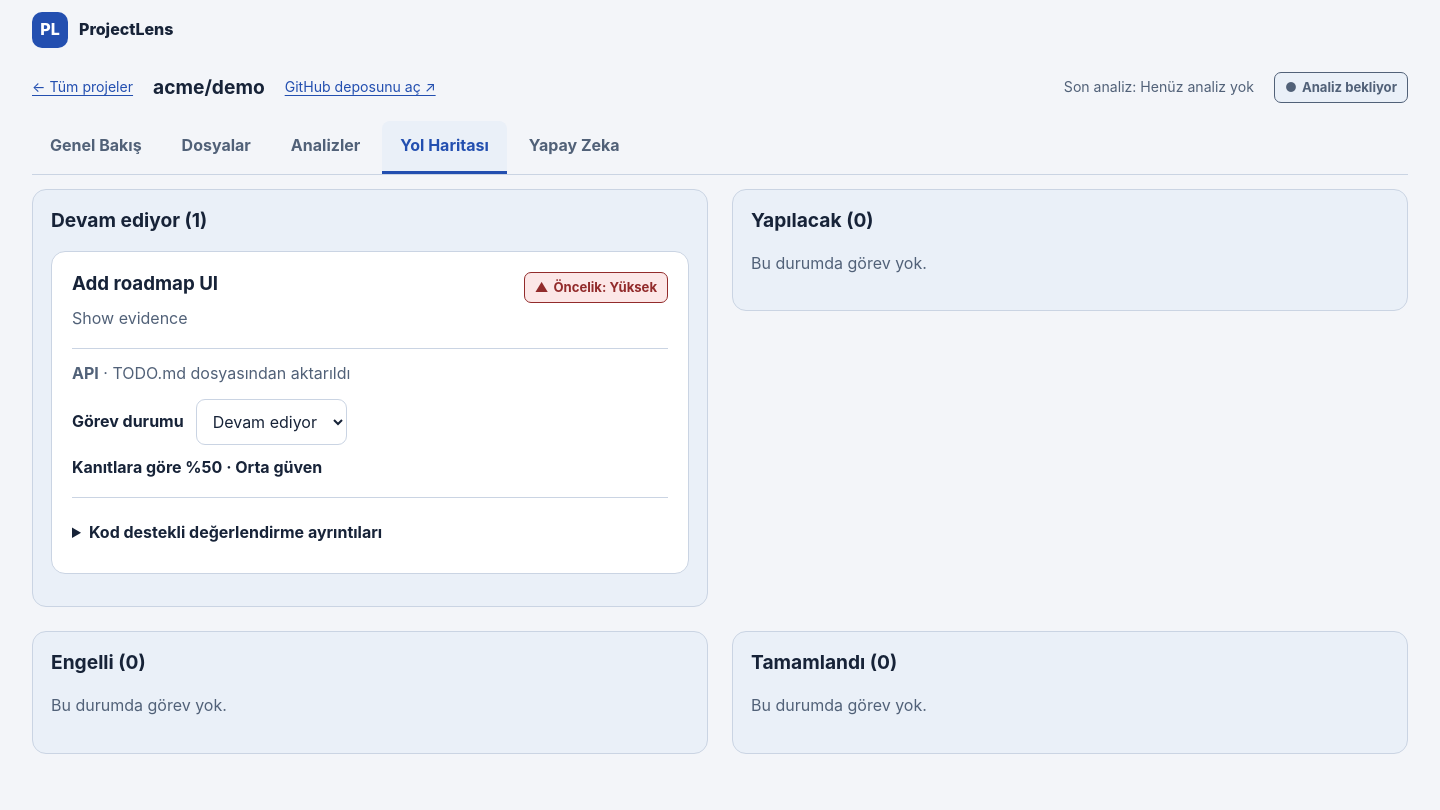
Test case: project roadmap page › shows status groups, progress breakdowns and code-aware assessment
(page scrolled)
Expected: the text "Step 7" is shown, [57,37,105,63]
Expected: the heading "Devam ediyor (1)" is shown, [51,208,207,232]
What coordinates should you click on to do the following:
click the heading "Kod destekli değerlendirme ayrıntıları"
I would click on:
 (236, 532)
Its box is [89,522,382,542].
(page scrolled)
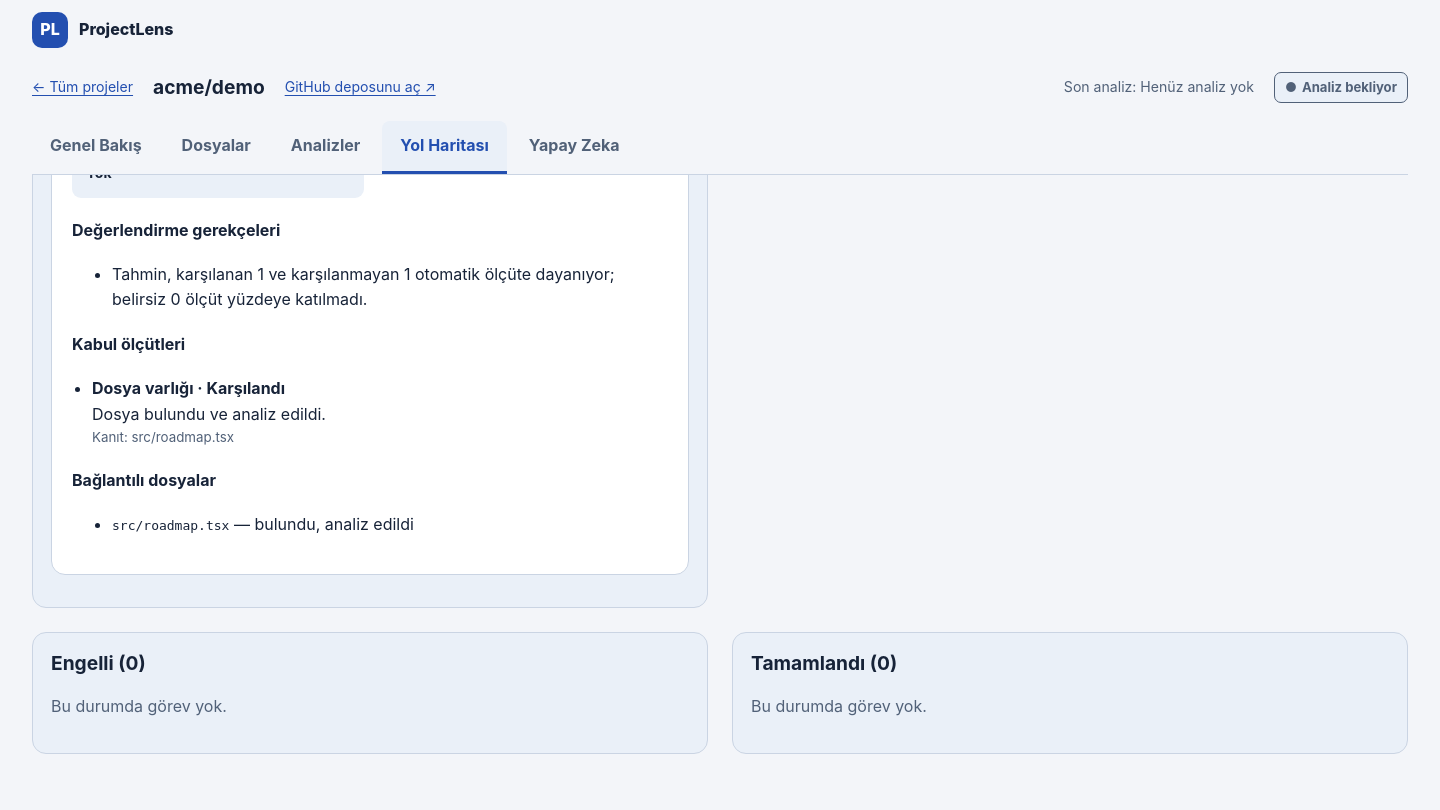
Expected: the list item "Tahmin, karşılanan 1 ve karşılanmayan 1 otomatik ölçüte dayanıyor; belirsiz 0 ölçüt yüzdeye katılmadı." is shown, [112,264,614,309]
Expected: the text "Dosya varlığı · Karşılandı" is shown, [92,378,285,398]
Expected: the text "src/roadmap.tsx" is shown, [112,518,229,533]
